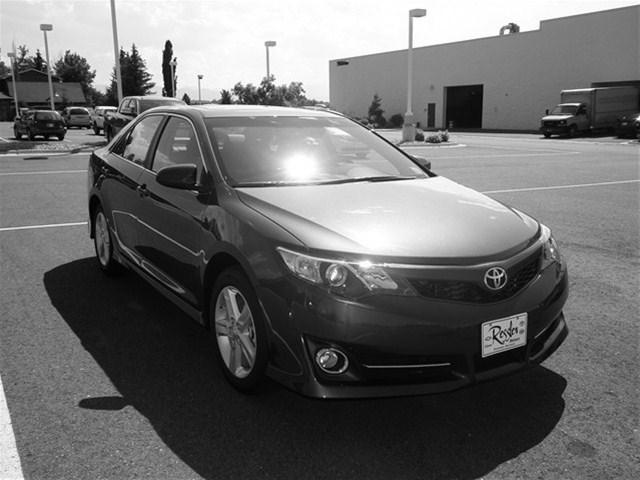car: (85, 102, 575, 407)
